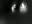person: (21, 2, 29, 15), (11, 4, 17, 14)
